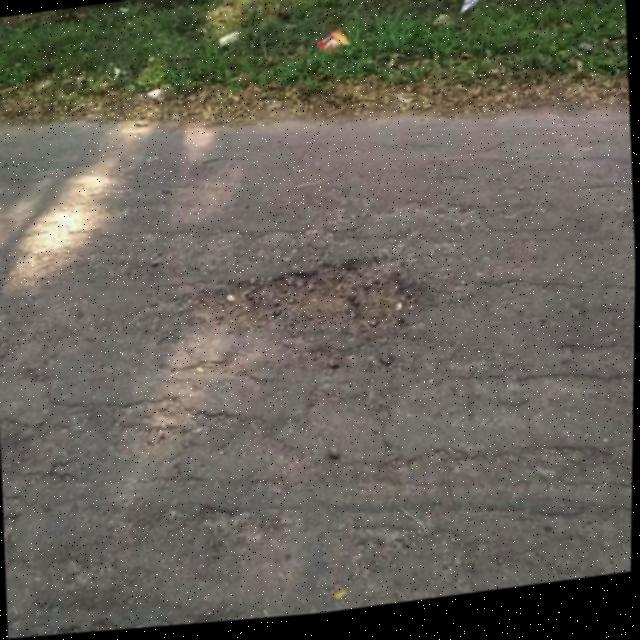Pothole: (186, 253, 431, 371)
